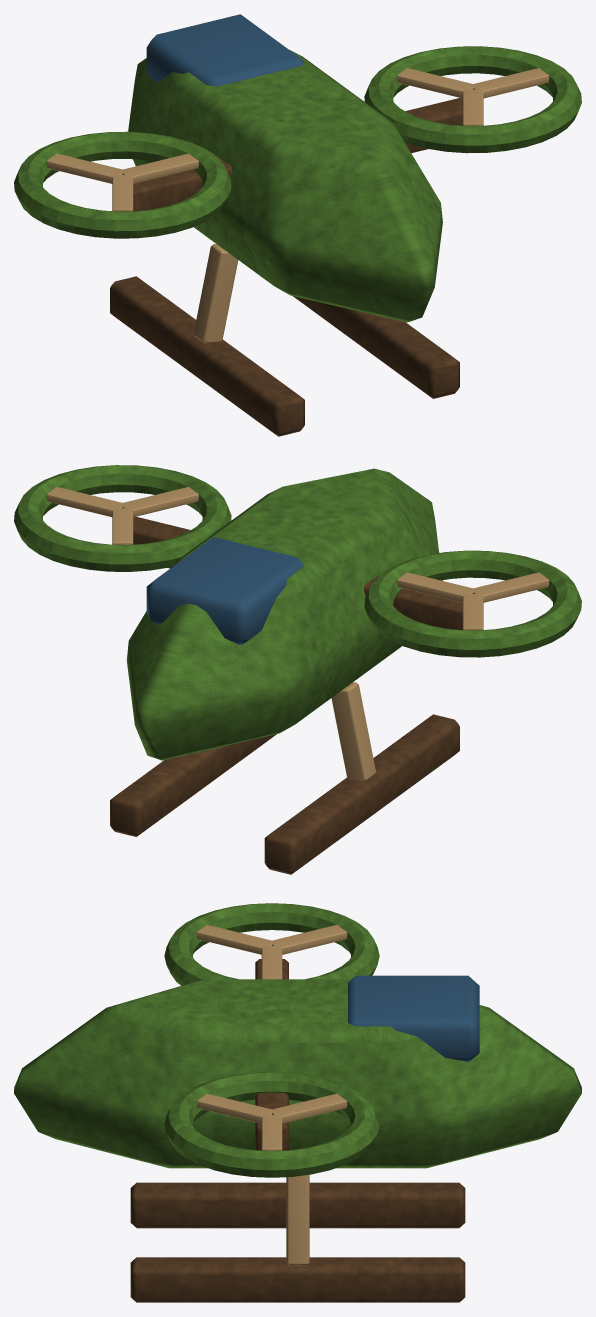
The model's file is vael_cigale.gltf.
3 renders of one model, top to bottom at view 1: azimuth 30°, elevation 25°; view 2: azimuth 150°, elevation 25°; view 3: azimuth 270°, elevation 25°, orthographic.
Visible parts, largest first — view 1: Root.033_Geometry, Rotor_-1_Geometry, Rotor_1_Geometry; view 2: Root.033_Geometry, Rotor_-1_Geometry, Rotor_1_Geometry; view 3: Root.033_Geometry, Rotor_1_Geometry, Rotor_-1_Geometry.
Part boxes in pixels (box(x1,y1,x2,y2)): Root.033_Geometry: box(14, 14, 581, 436); Rotor_-1_Geometry: box(46, 153, 198, 211); Rotor_1_Geometry: box(397, 68, 549, 125); Root.033_Geometry: box(14, 465, 581, 874); Rotor_-1_Geometry: box(397, 572, 549, 630); Rotor_1_Geometry: box(46, 487, 198, 544); Root.033_Geometry: box(14, 903, 581, 1302); Rotor_1_Geometry: box(196, 1093, 347, 1150); Rotor_-1_Geometry: box(196, 925, 347, 979).
Size of the model in its own units: 2.37 by 1.13 by 2.19.
Materials: 4 (2 with a texture image).
